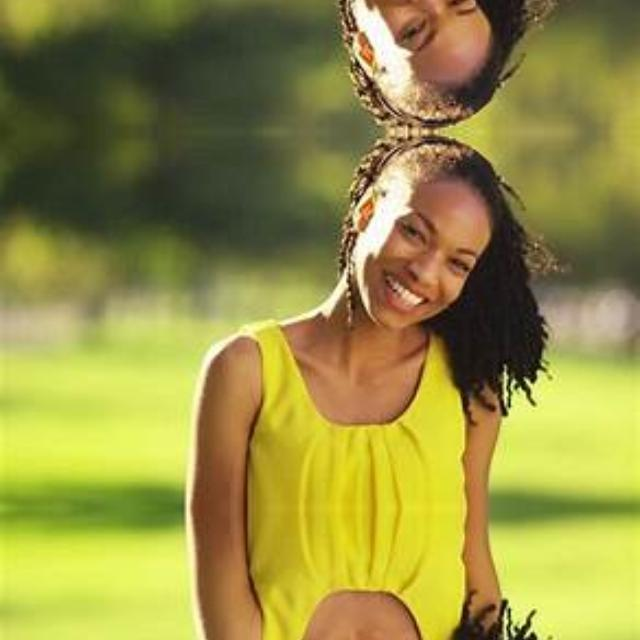person: (146, 140, 578, 508), (145, 508, 578, 640), (145, 0, 578, 122)
